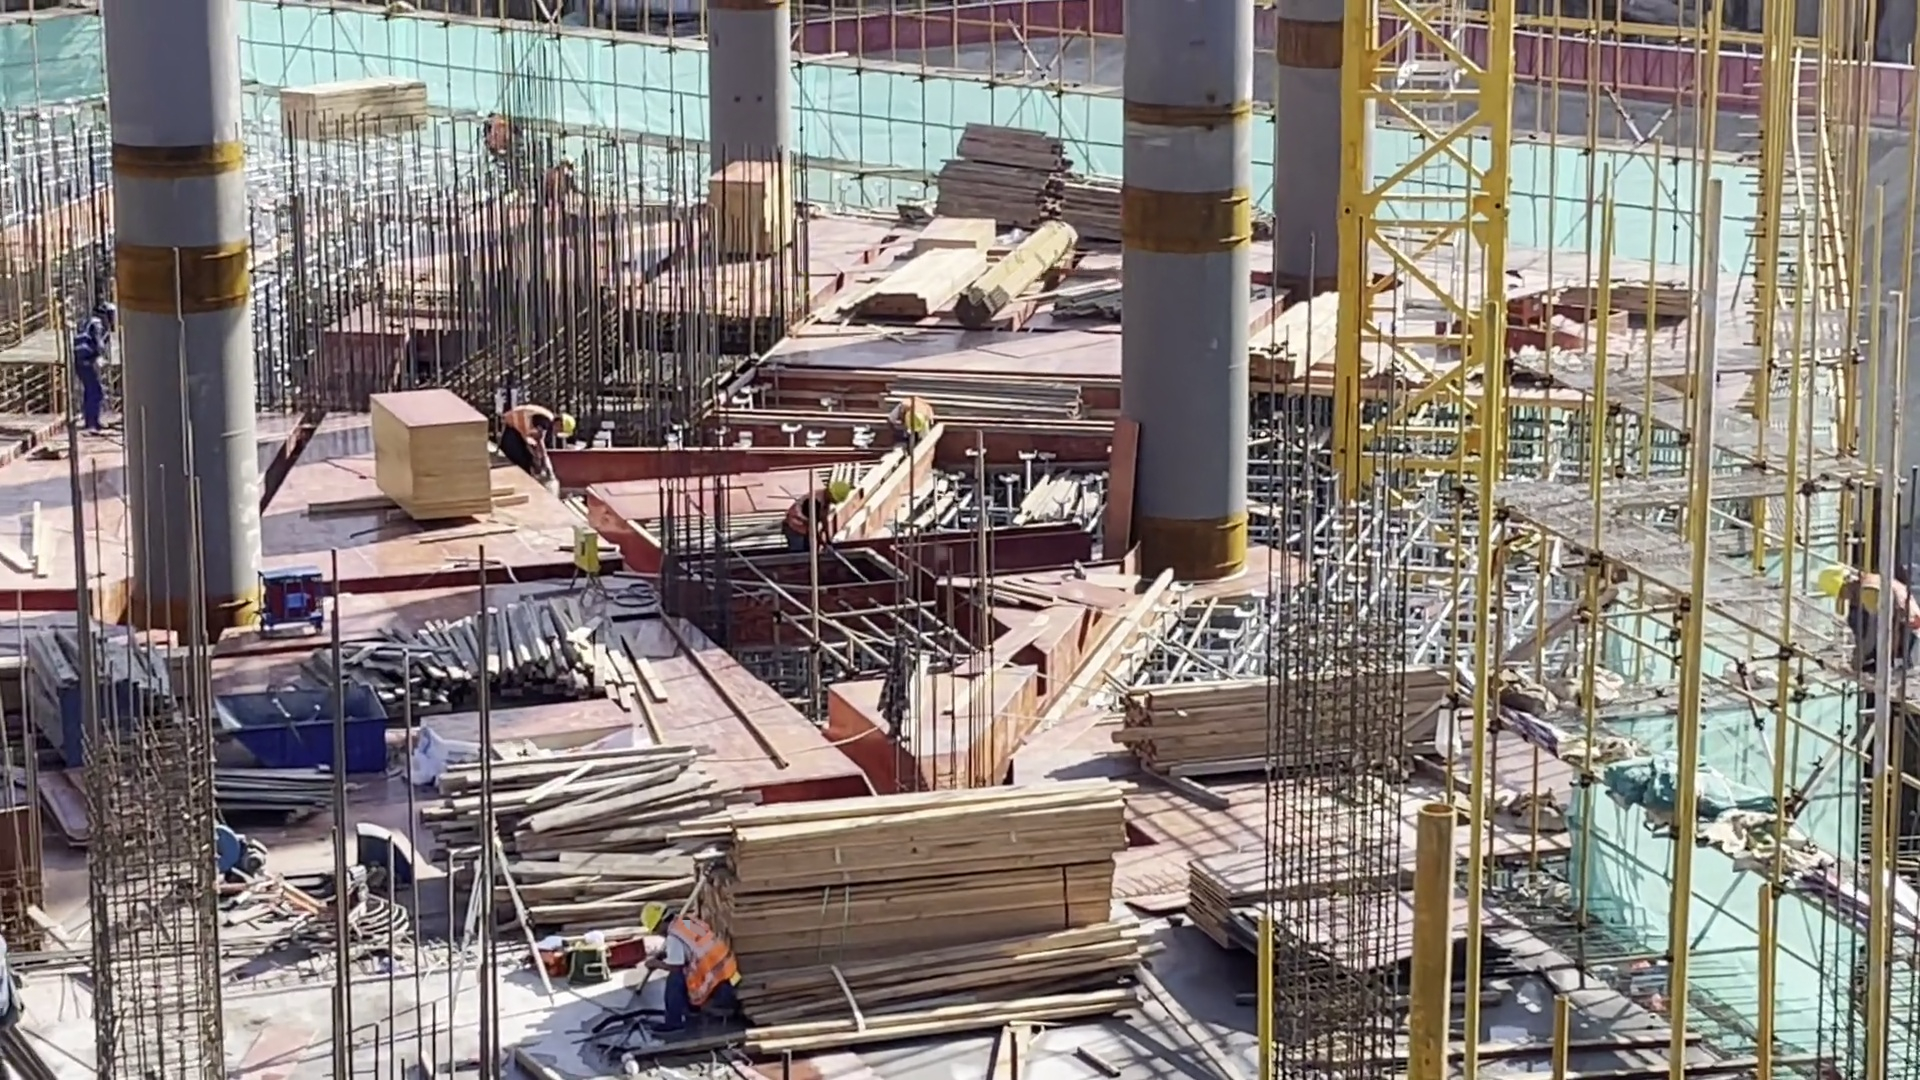board: (370, 388, 492, 520), (1561, 276, 1689, 315)
ebox: (214, 681, 392, 774), (568, 520, 614, 608)
helmet: (641, 901, 666, 931), (829, 481, 850, 504), (905, 411, 924, 433), (562, 413, 575, 435)
person: (640, 898, 758, 1038), (500, 401, 577, 482), (74, 299, 115, 429), (780, 481, 850, 549), (888, 397, 937, 440)
vest: (665, 914, 737, 1004), (502, 402, 549, 448), (784, 490, 826, 533), (74, 319, 102, 366)
wood: (694, 783, 1121, 981), (1118, 679, 1269, 781)
